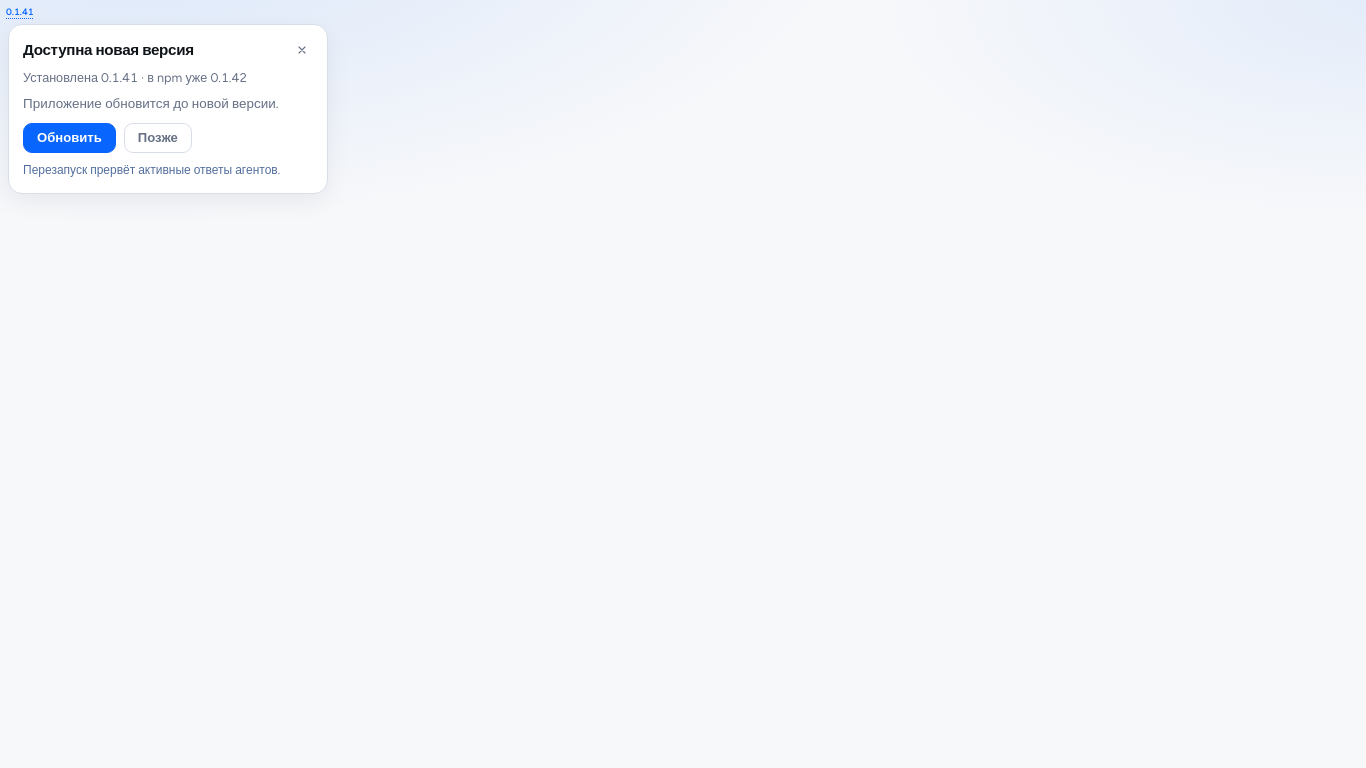
Test: AppUpdateNotice › downloads the new version on the button
Click the button "Обновить": x=69, y=138 top-left (23, 123), bottom-right (116, 153)
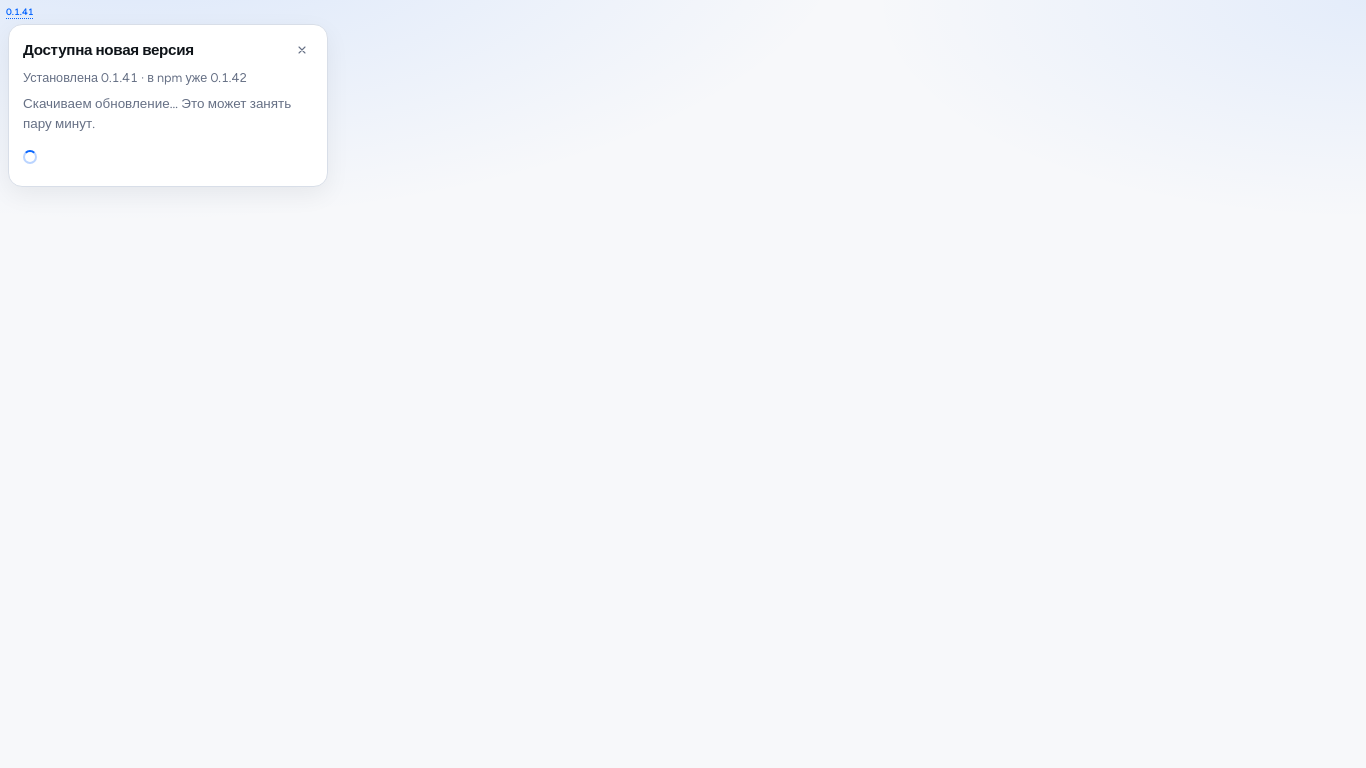
Now the text "Скачиваем обновление… Это может занять пару минут." is shown, box top-left (23, 94), bottom-right (313, 133)
Now the button "Обновить" is gone
